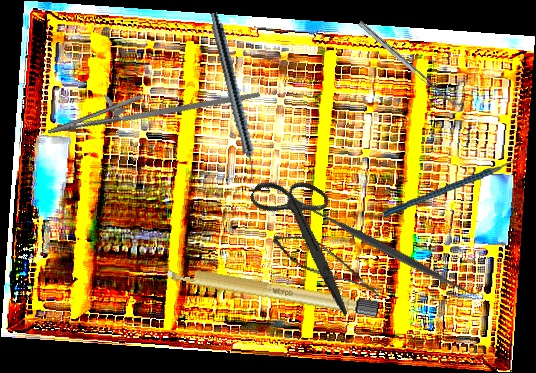Chopper: (380, 147, 529, 217)
Handpiece: (204, 11, 263, 183)
Iris Scissors: (222, 160, 394, 317)
Micro Scissor: (266, 228, 389, 297)
Needle Holder: (42, 50, 261, 161)
Scalpel Handle: (162, 263, 380, 318)
Spatula Surgical: (295, 194, 483, 308), (357, 16, 465, 112)
